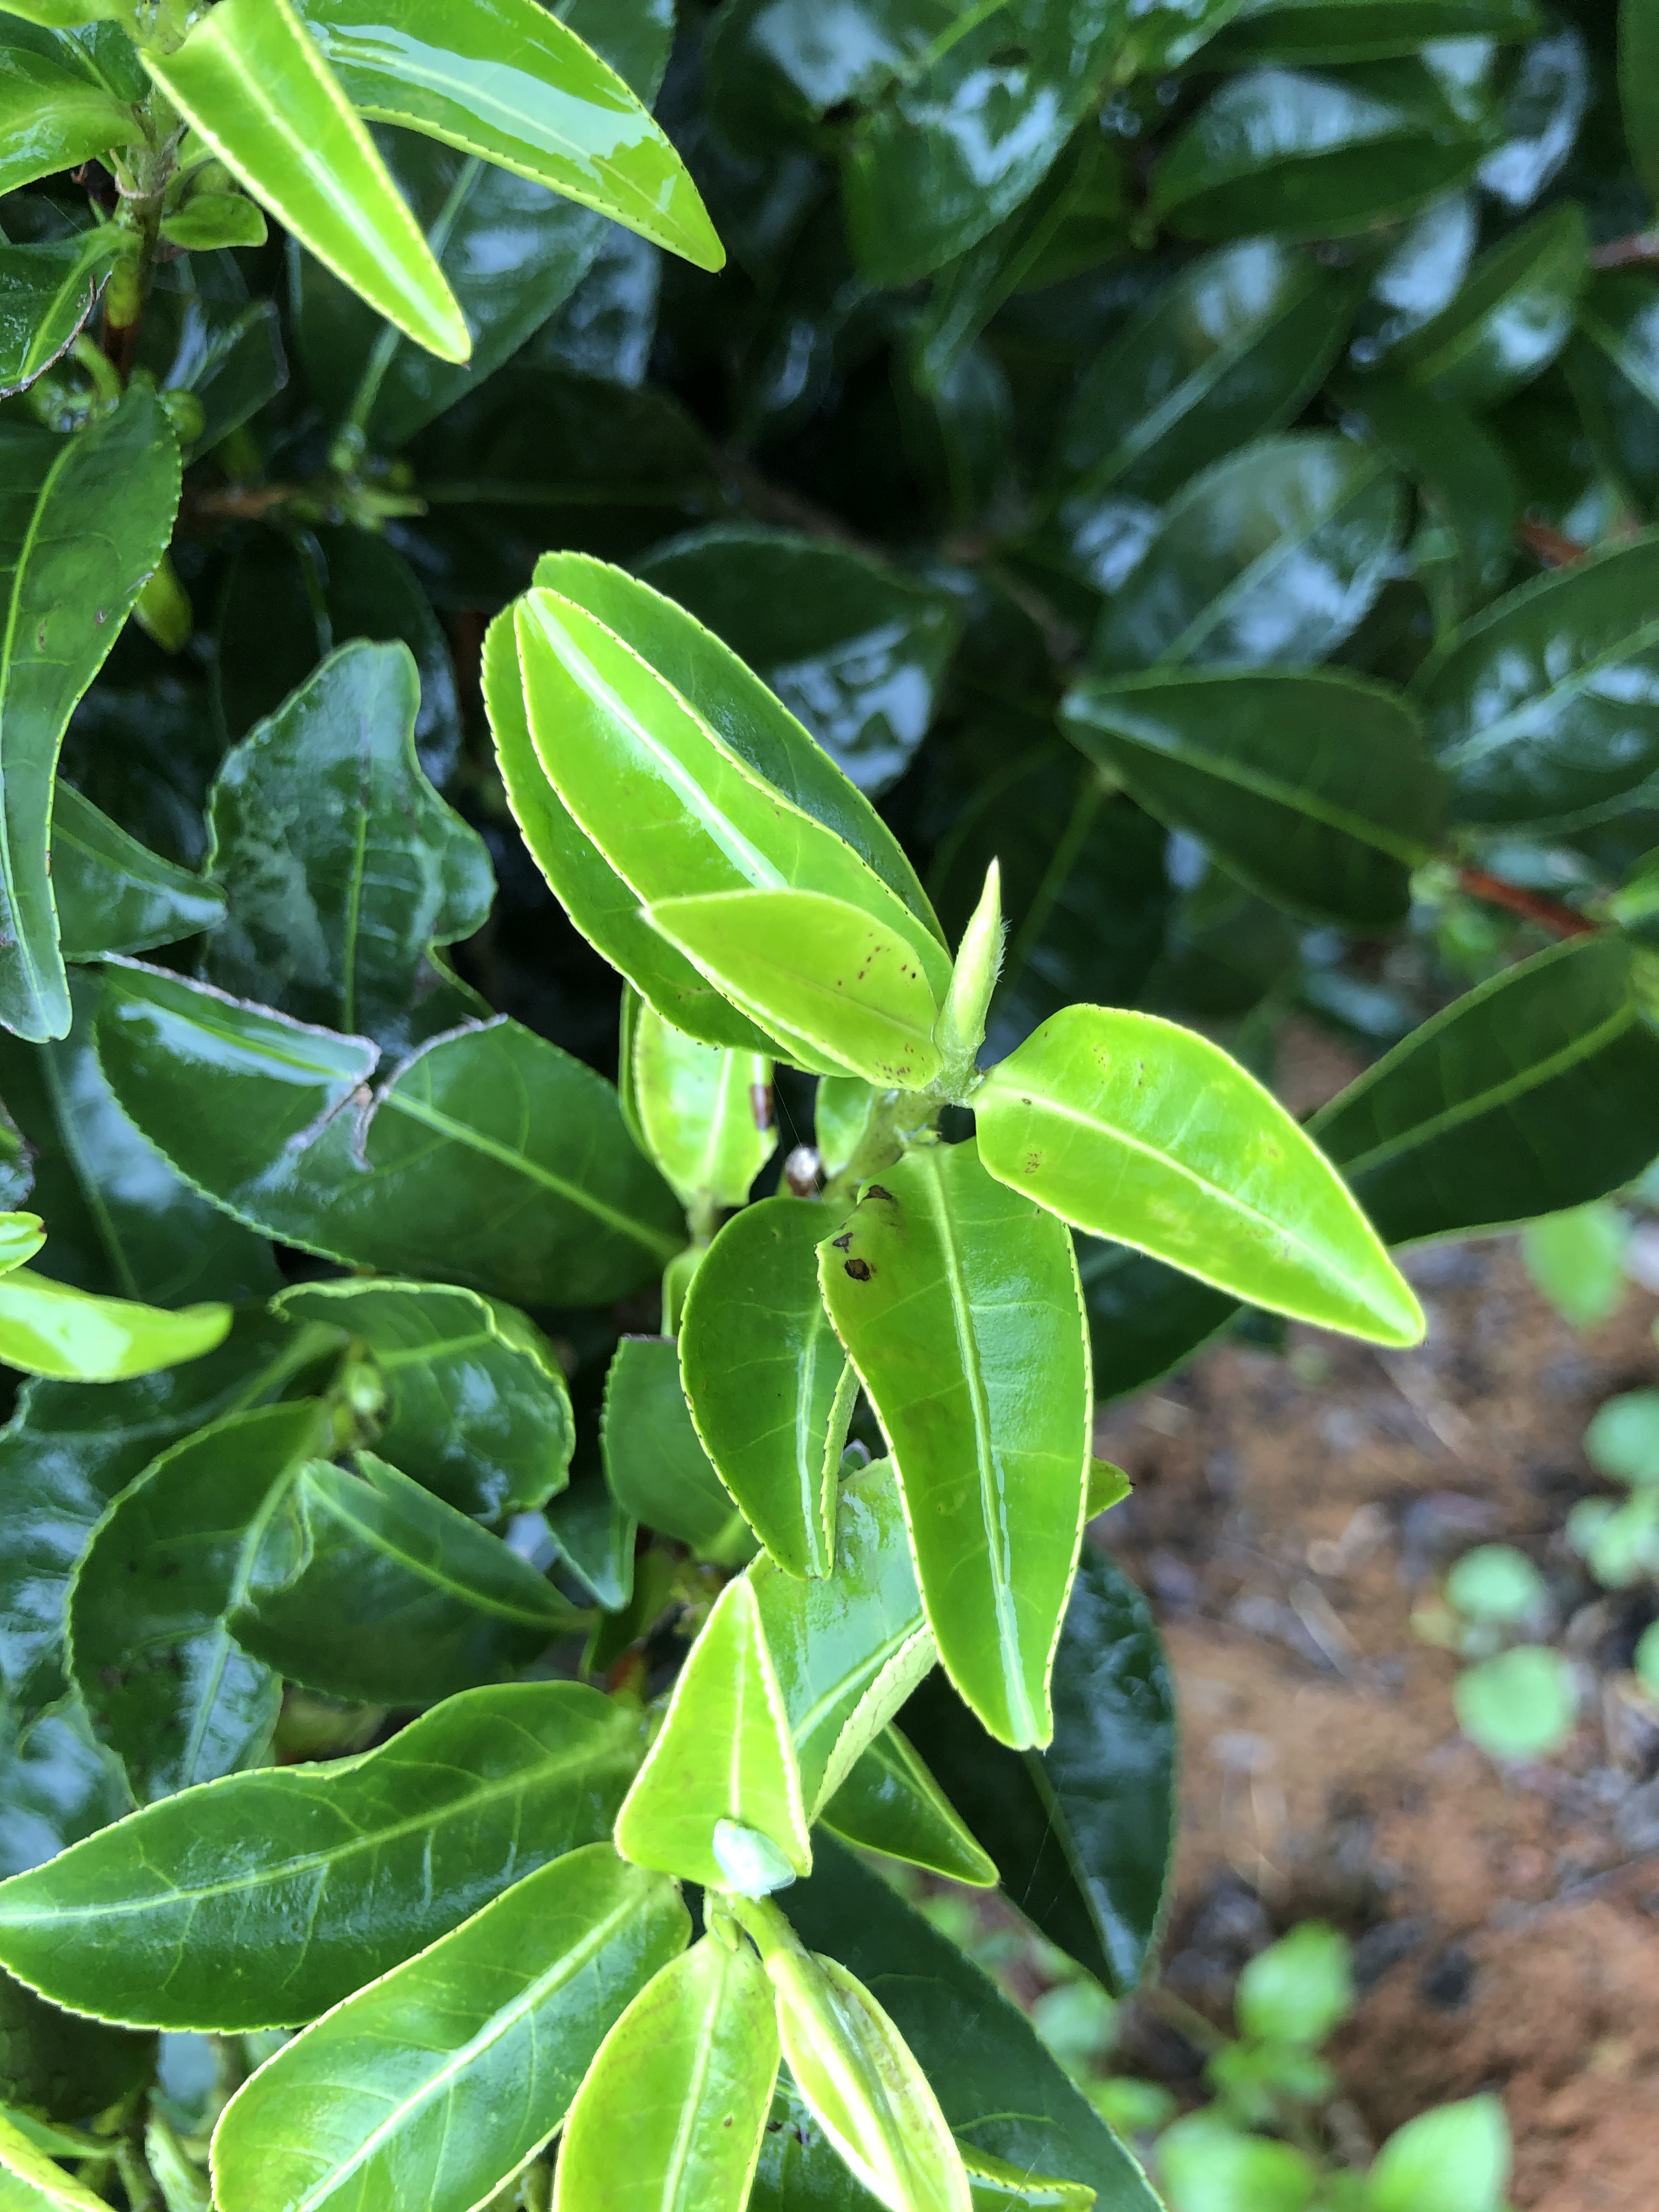thrips: (823, 1122, 1096, 1759)
